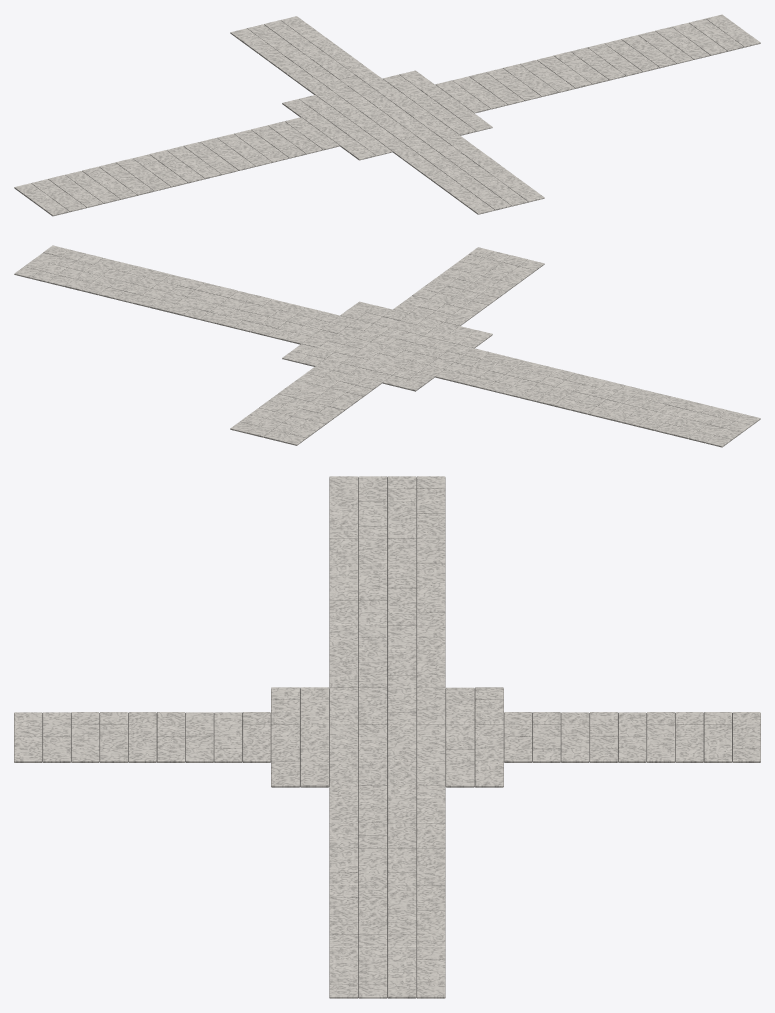
Rendered from G_MarblePaths.fbx.
3 renders of one model, top to bottom at view 1: azimuth 30°, elevation 25°; view 2: azimuth 150°, elevation 25°; view 3: azimuth 270°, elevation 25°, orthographic. The views are drawn at different scales.
Parts seen in each view (by area): view 1: G_MarblePaths; view 2: G_MarblePaths; view 3: G_MarblePaths.
Part boxes in pixels (x1,y1,x2,y2): G_MarblePaths: (14,14,760,216); G_MarblePaths: (14,245,760,447); G_MarblePaths: (14,476,760,998).
Bounding box in the file's own units: 25.4 × 0.054 × 15.4.
2 materials, 1 textured.
